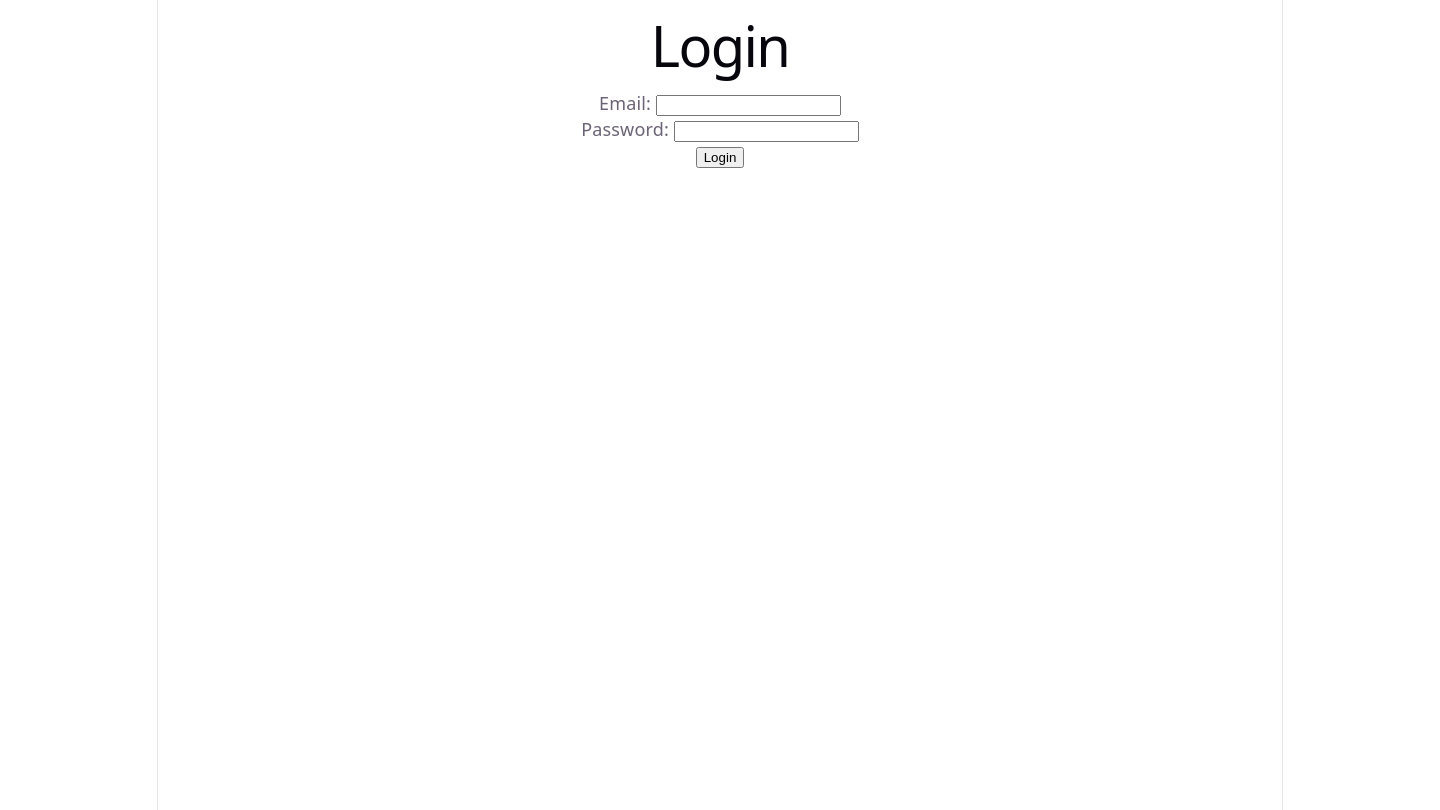
Test case: LoginPage › successful login that redirects to /events
This screenshot has width=1440, height=810.
Step 1. Type "alice@example.com" into the field labelled "Email:" → (748, 106), box [656,95,841,116]
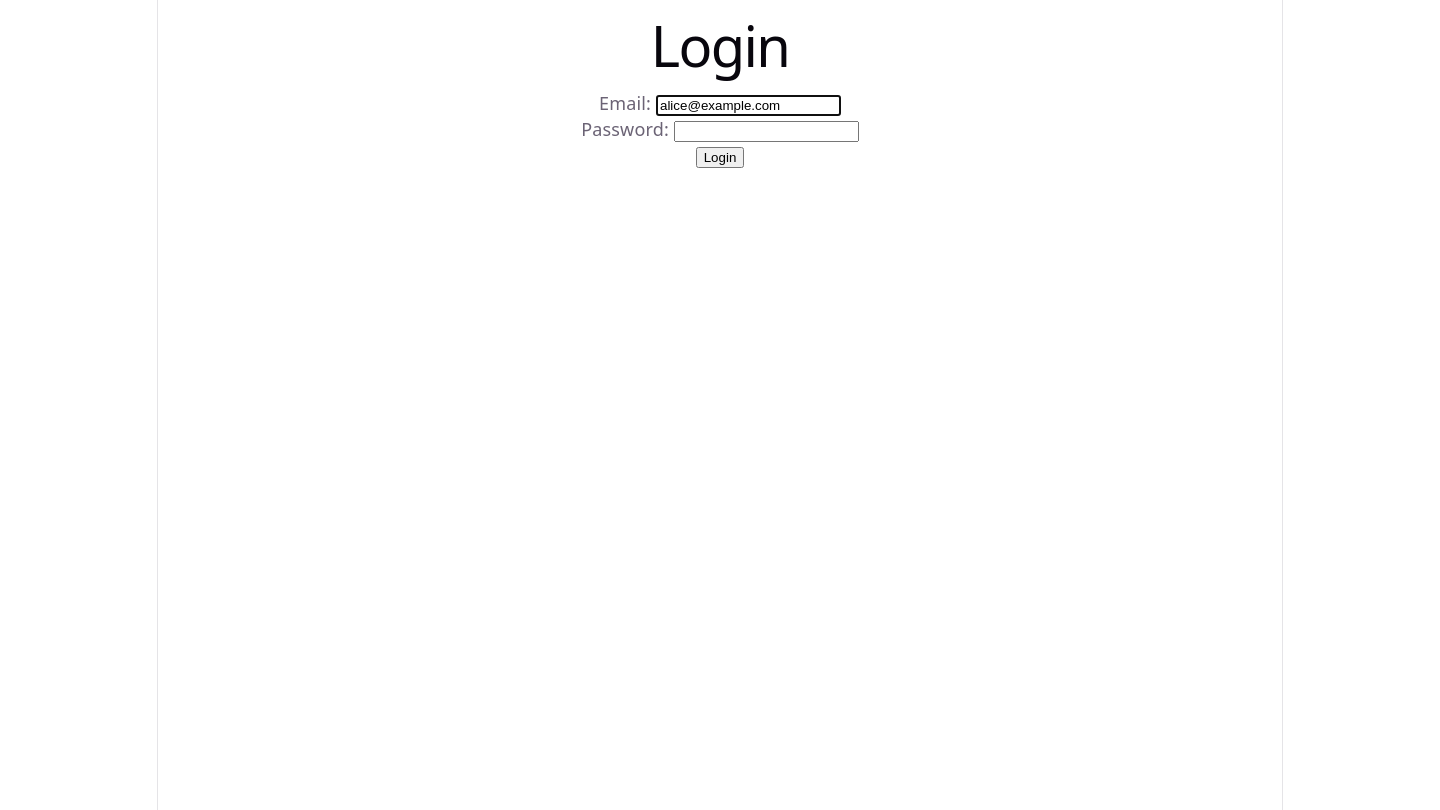
Step 2. Type "password123" into the password field labelled "Password:" → (766, 132), box [674,121,859,142]
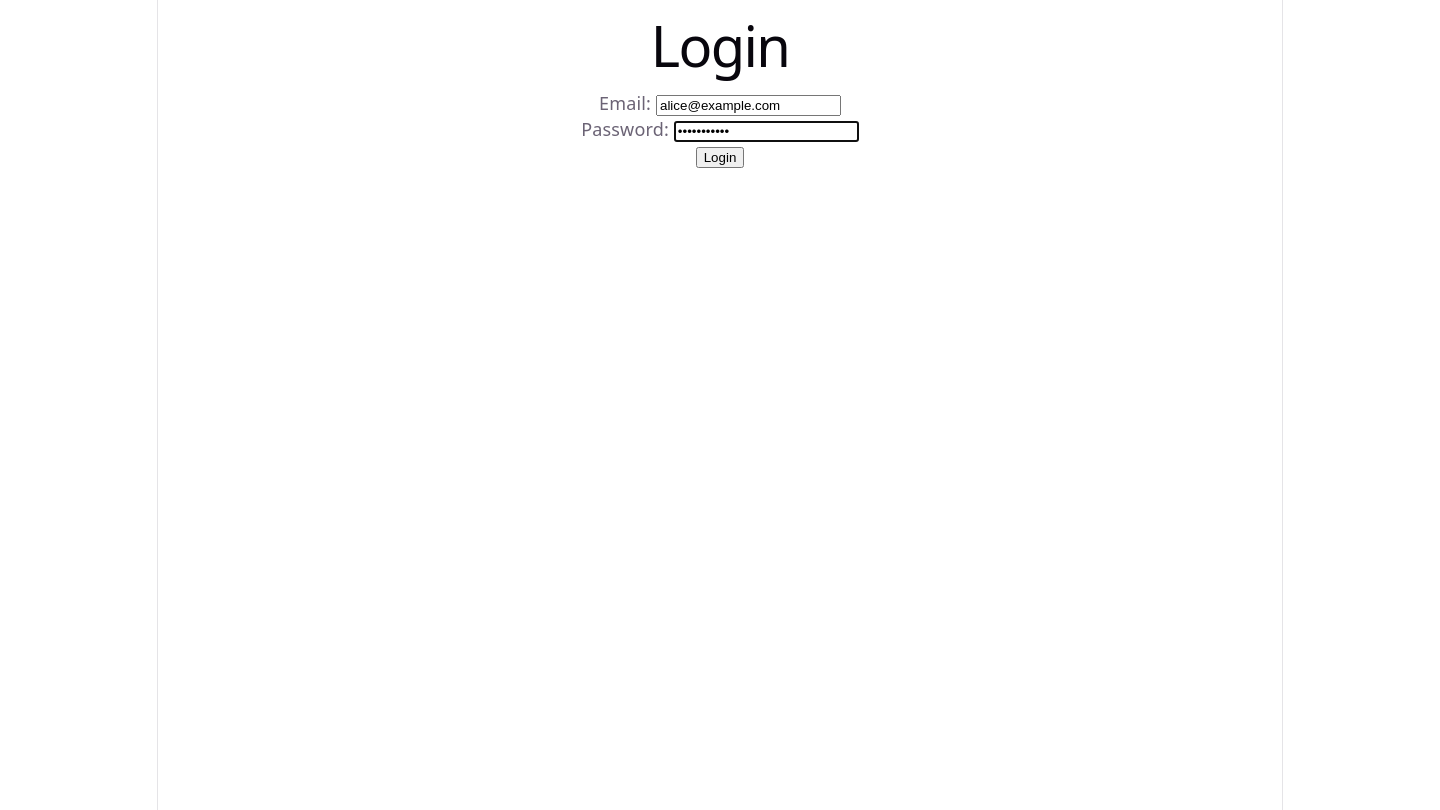
Step 3. Click the button "Login" → (720, 158), box [696,147,744,168]
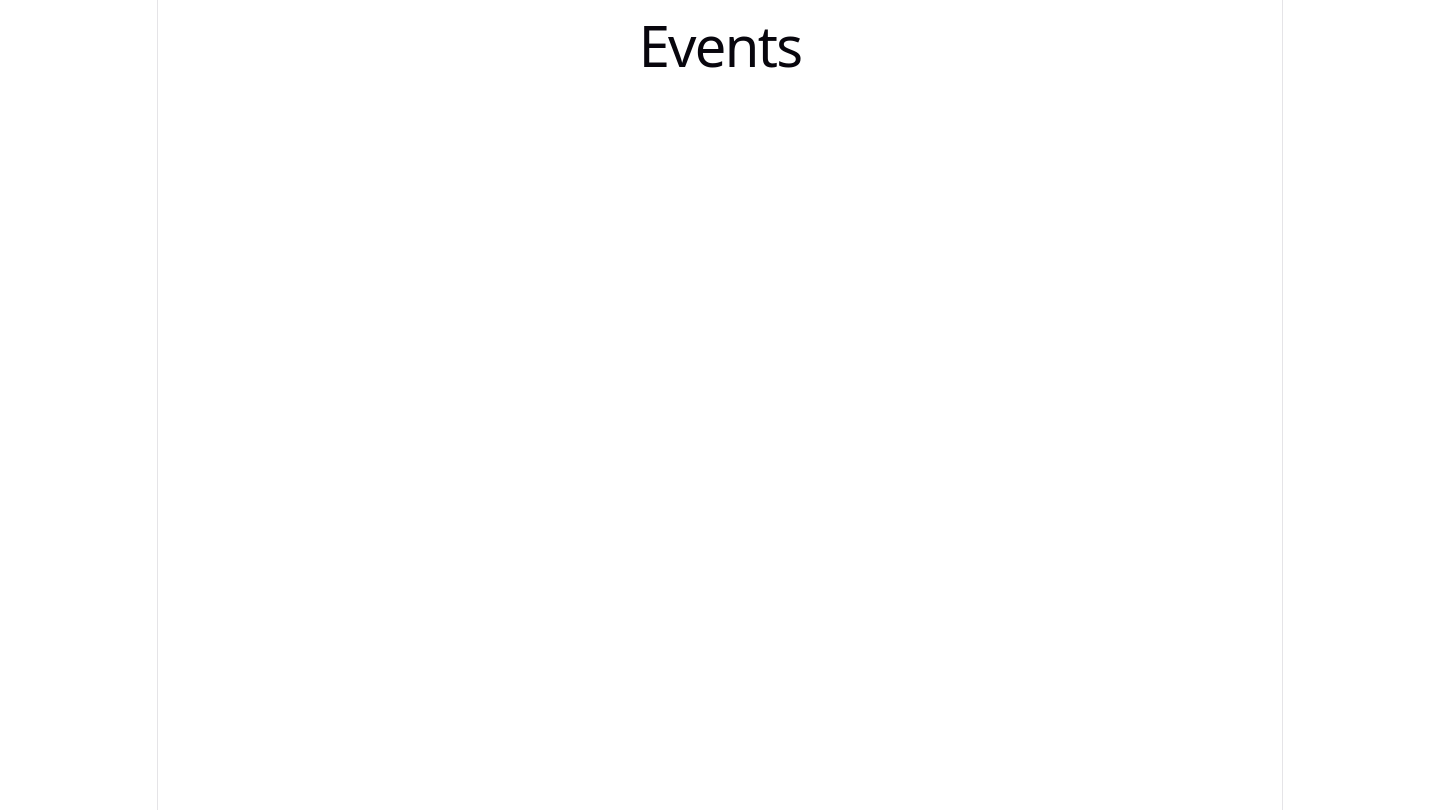
Result: the heading "Events" is shown at [639,7,801,83]
